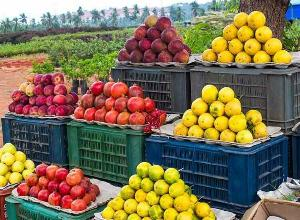apple: (0, 61, 80, 116), (117, 19, 198, 66), (0, 144, 36, 188)
lemon: (101, 163, 219, 219), (199, 2, 299, 66), (172, 78, 272, 140)
pomegranate: (14, 156, 102, 212), (76, 76, 162, 130)
